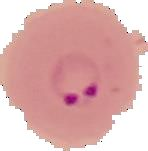parasitized: (47, 48, 107, 114)
